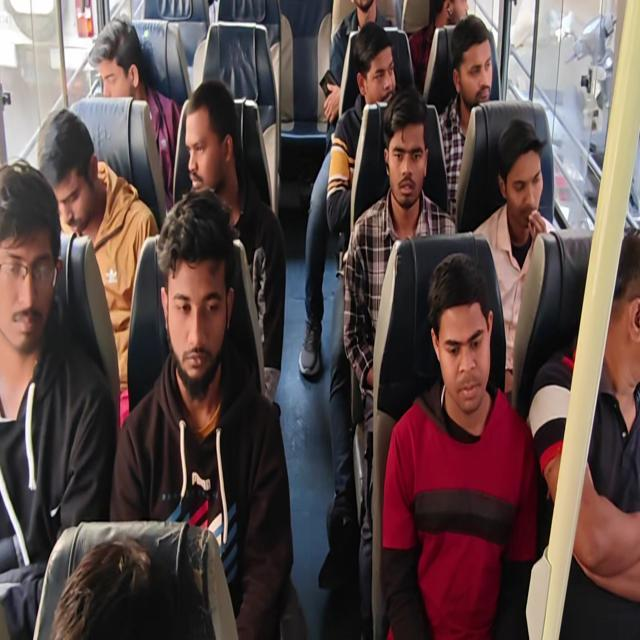person: (44, 518, 224, 640), (153, 181, 240, 398), (426, 262, 504, 422), (0, 148, 56, 343), (172, 78, 244, 199), (32, 111, 101, 236), (598, 224, 640, 411), (381, 76, 433, 212), (491, 118, 551, 228), (82, 24, 148, 107), (348, 19, 398, 119), (451, 12, 499, 113), (431, 0, 480, 29), (343, 0, 387, 18)
